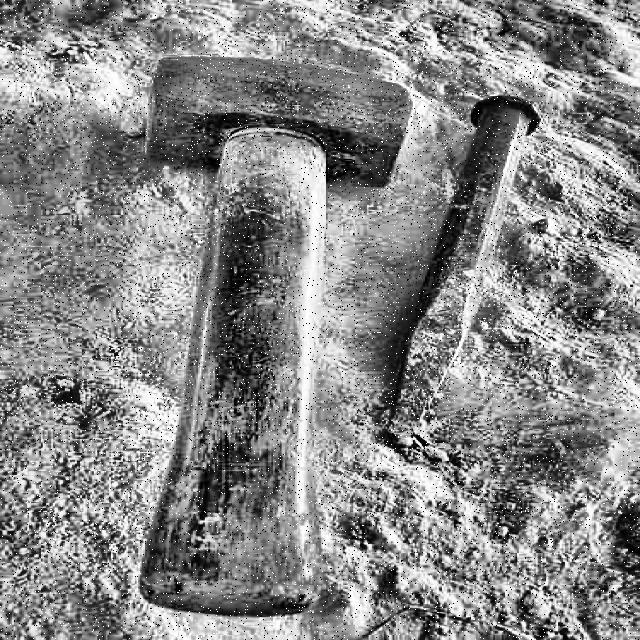hammer: (135, 52, 408, 615)
